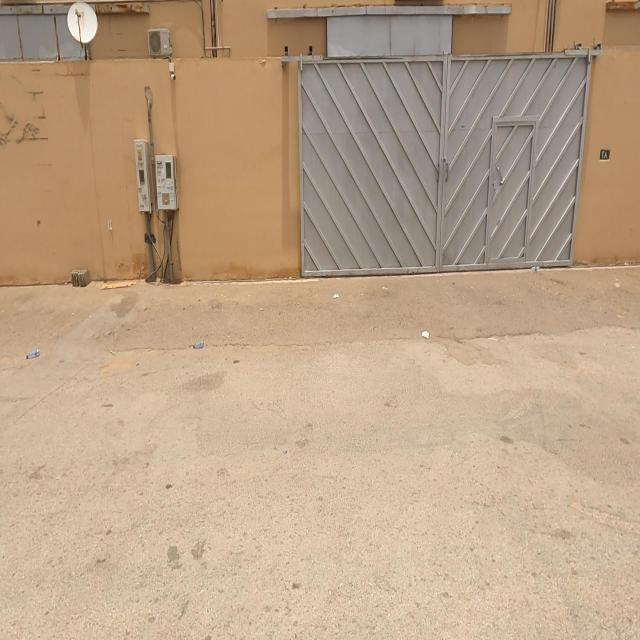debris: (392, 299, 455, 377), (6, 322, 62, 386), (171, 312, 225, 374), (321, 270, 352, 325)
